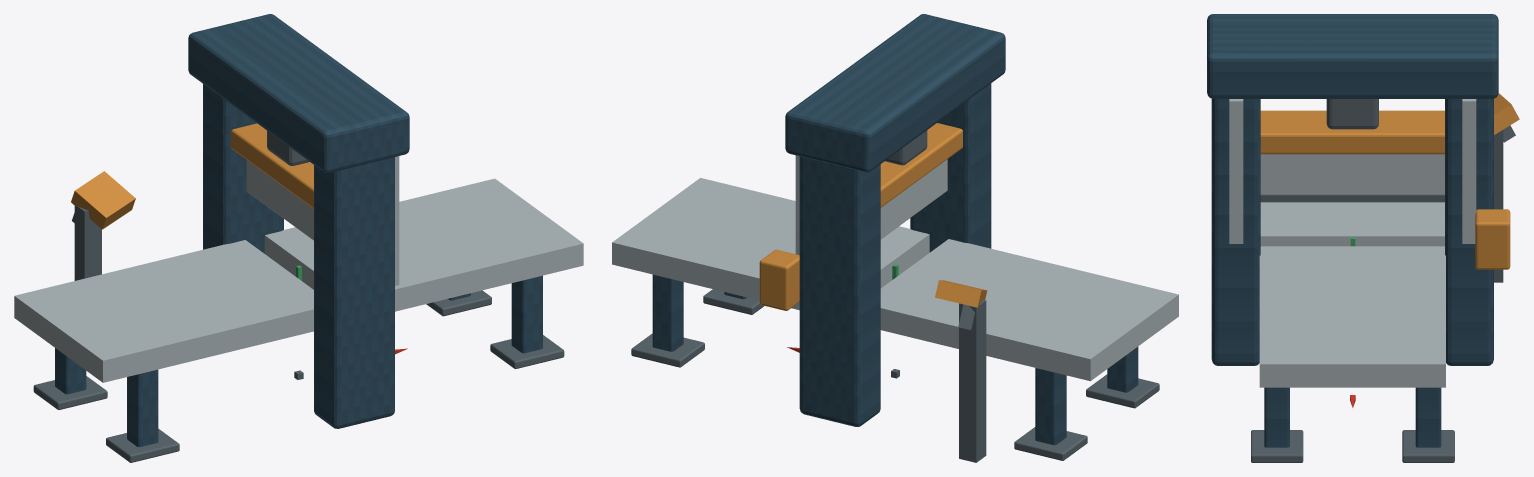
File: shear-lod0.glb
The picture shows the model from 3 angles, left to right: view 1: azimuth 30°, elevation 25°; view 2: azimuth 150°, elevation 25°; view 3: azimuth 270°, elevation 25°; orthographic projection. The views are drawn at different scales.
Visible parts, largest first — view 1: entry_table, right_column, head_beam, exit_table, left_column, blade_carriage, entry_right_leg, exit_right_leg, cutting_tool, service_pad, service_pedestal, entry_left_foot (+6 smaller); view 2: entry_table, left_column, head_beam, exit_table, right_column, service_pedestal, blade_carriage, exit_left_leg, entry_left_leg, front_control, cutting_tool, entry_right_foot (+6 smaller); view 3: exit_table, head_beam, right_column, left_column, entry_table, cutting_tool, blade_carriage, front_control, right_guide, left_guide, exit_left_leg, hydraulic_body (+6 smaller).
Part boxes in pixels (x1,y1,x2,y2): entry_table: [14, 240, 313, 382]; right_column: [314, 157, 394, 428]; head_beam: [188, 14, 409, 173]; exit_table: [264, 178, 583, 311]; left_column: [203, 84, 283, 253]; blade_carriage: [231, 123, 313, 208]; entry_right_leg: [127, 369, 158, 447]; exit_right_leg: [511, 275, 542, 353]; cutting_tool: [246, 160, 313, 240]; service_pad: [71, 171, 135, 229]; service_pedestal: [74, 206, 101, 280]; entry_left_foot: [33, 376, 107, 409]; entry_table: [880, 239, 1178, 381]; left_column: [799, 156, 880, 426]; head_beam: [785, 14, 1005, 172]; exit_table: [612, 178, 929, 310]; right_column: [910, 83, 991, 252]; service_pedestal: [959, 299, 986, 462]; blade_carriage: [880, 123, 962, 207]; exit_left_leg: [652, 274, 683, 351]; entry_left_leg: [1035, 368, 1066, 445]; front_control: [759, 249, 799, 310]; cutting_tool: [880, 159, 947, 239]; entry_right_foot: [1086, 374, 1159, 408]; exit_table: [1259, 246, 1445, 387]; head_beam: [1207, 14, 1498, 98]; right_column: [1211, 98, 1260, 365]; left_column: [1445, 98, 1493, 365]; entry_table: [1260, 202, 1444, 246]; cutting_tool: [1260, 154, 1444, 195]; blade_carriage: [1260, 110, 1444, 154]; front_control: [1475, 209, 1510, 269]; right_guide: [1229, 99, 1243, 243]; left_guide: [1462, 99, 1476, 243]; exit_left_leg: [1415, 387, 1441, 447]; hydraulic_body: [1326, 99, 1378, 129].
Size of the model in its own units: 5 by 3.04 by 2.68.
7 materials, 1 textured.
